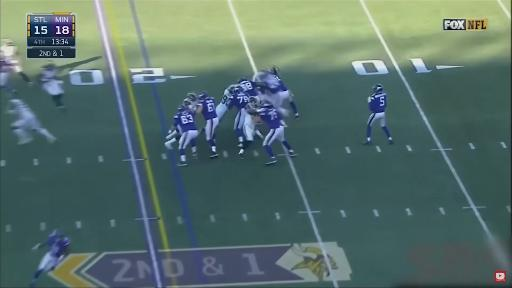Helmet: (373, 84, 383, 93), (269, 66, 279, 75), (187, 93, 197, 101), (262, 101, 273, 108), (235, 86, 244, 94), (249, 97, 256, 106), (229, 85, 236, 94), (199, 92, 207, 99), (178, 105, 186, 111), (238, 78, 246, 83)
Jersey: (173, 110, 197, 133), (47, 234, 69, 257), (259, 108, 281, 129), (264, 74, 287, 93), (11, 99, 33, 118), (198, 98, 217, 120), (368, 92, 387, 113), (230, 93, 249, 110), (239, 80, 258, 96), (40, 68, 56, 83), (0, 45, 17, 59), (221, 88, 231, 106), (0, 57, 11, 72), (246, 103, 257, 115)
Player: (259, 102, 296, 165), (30, 230, 69, 287), (8, 99, 56, 144), (264, 66, 298, 118), (364, 84, 393, 144), (239, 96, 263, 159), (173, 106, 198, 166), (196, 92, 218, 158), (0, 39, 31, 85), (39, 61, 65, 111), (230, 86, 249, 147), (216, 85, 236, 120), (243, 114, 263, 141), (0, 51, 12, 89), (238, 78, 258, 97), (165, 126, 180, 149), (166, 128, 180, 149), (187, 93, 198, 110)
